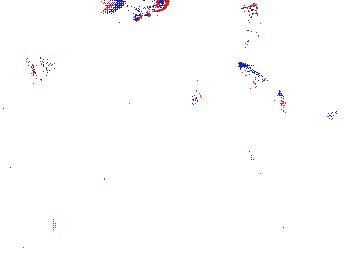X-ray fish: (1, 40, 58, 86), (129, 28, 162, 75)
red belly glassfish: (185, 83, 203, 109), (321, 107, 341, 125)
redtail glassfish: (237, 60, 286, 109), (103, 1, 172, 22), (242, 3, 261, 51)
